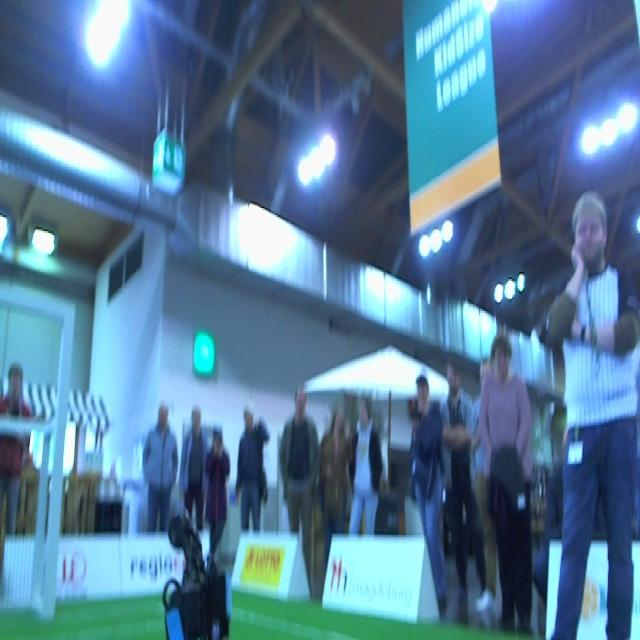goalpost: (39, 299, 74, 622)
